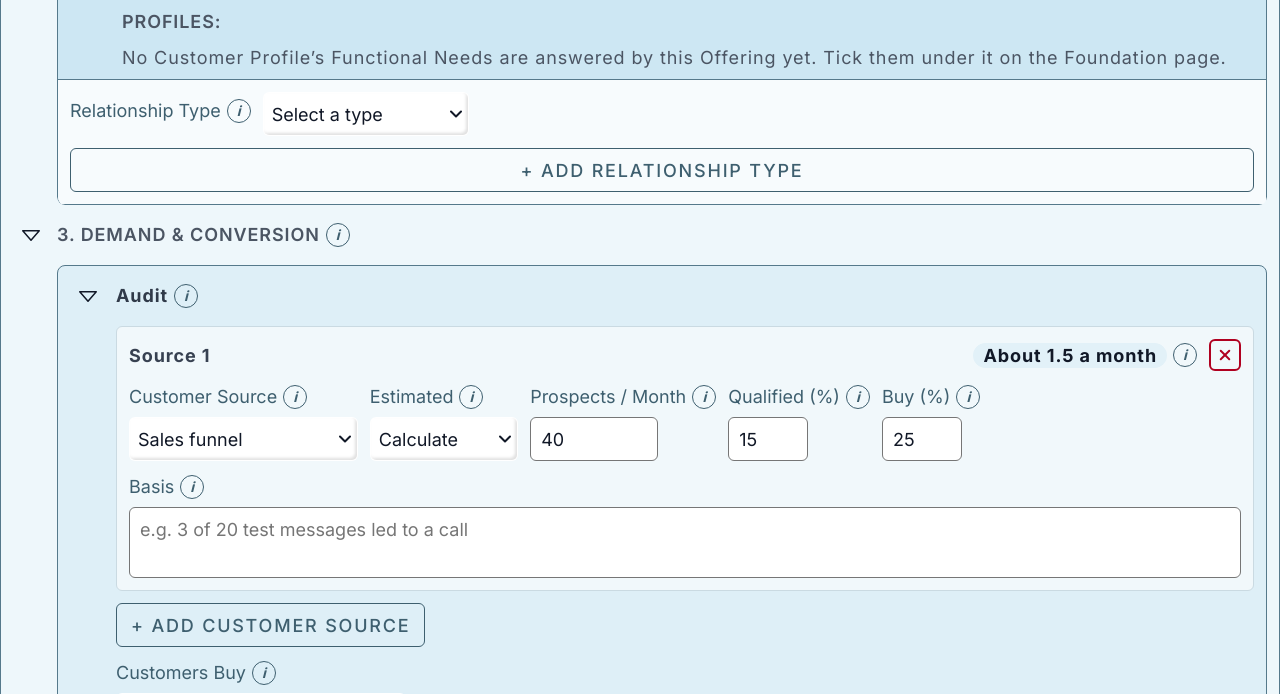
Test: BusinessEngagementEditor formula references › shows the sales funnel formula beside a counted result
(page scrolled)
Click the button named "Sales funnel result: what this means" at (1185, 355), box [1173,343,1197,367]
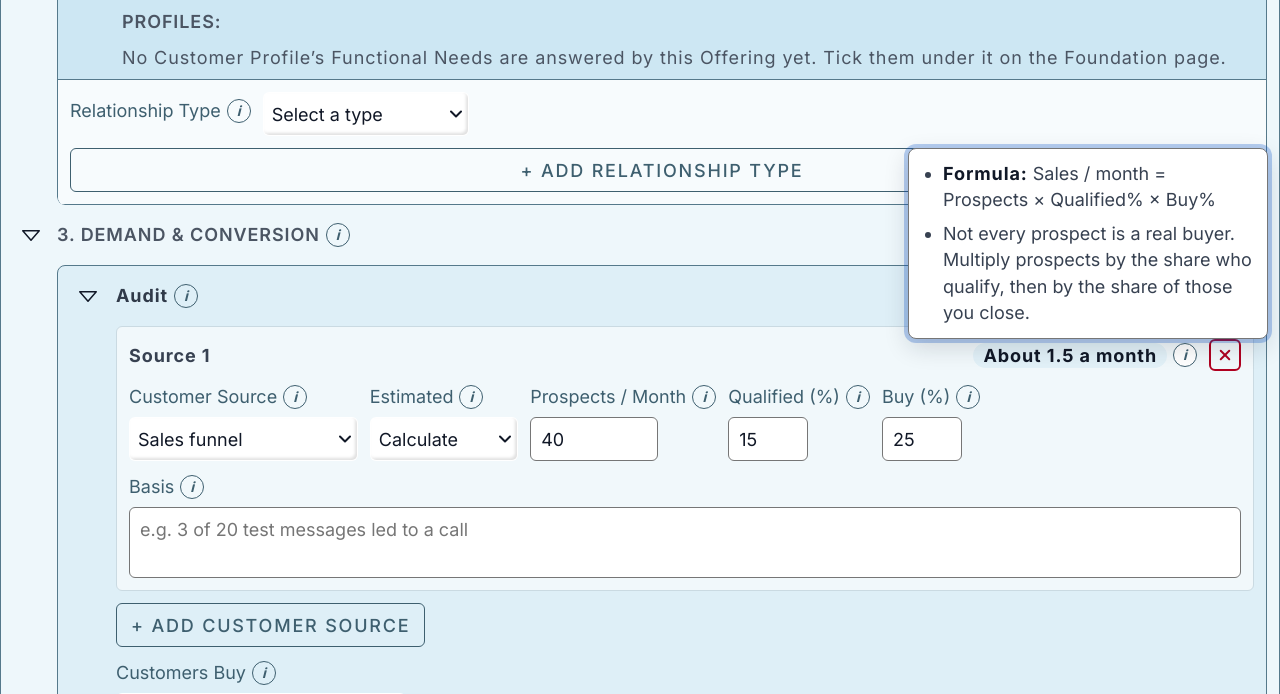
Result: the text "Formula:" is shown at [943,163,1028,184]
Result: the list item "Sales / month = Prospects × Qualified% × Buy%" is shown at [943,163,1216,210]
